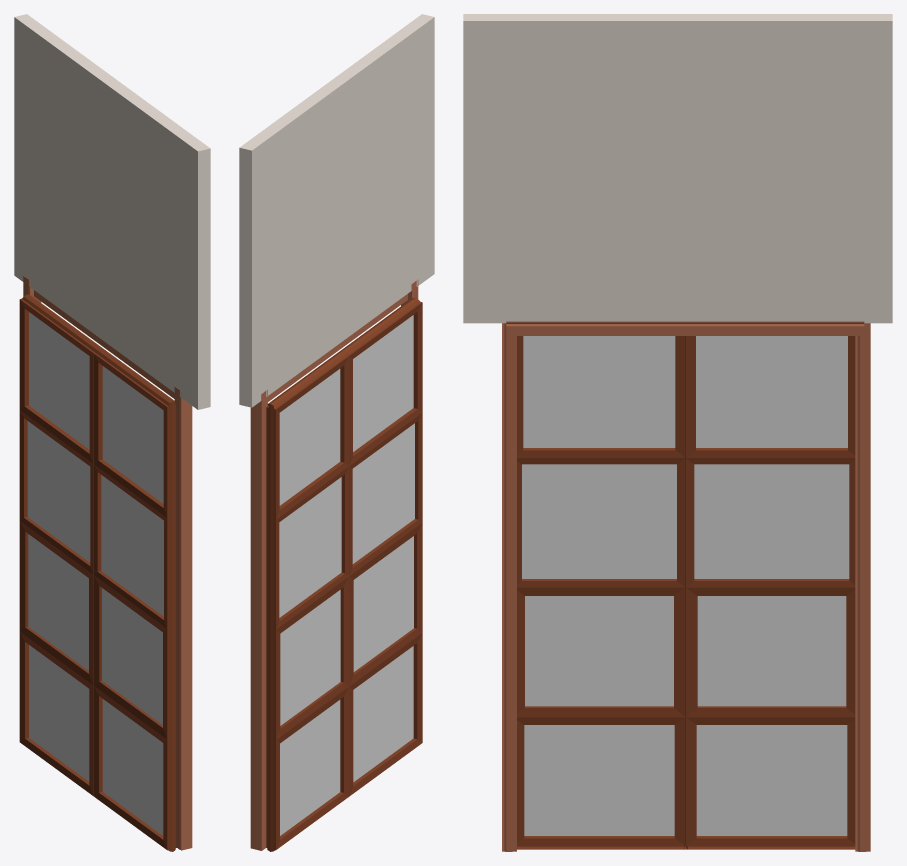
Rendered from Porta2.fbx.
The picture shows the model from 3 angles, left to right: view 1: azimuth 30°, elevation 25°; view 2: azimuth 150°, elevation 25°; view 3: azimuth 270°, elevation 25°; orthographic projection. The views are drawn at different scales.
Visible parts, largest first — view 1: Cube.033, Cube.041, Cube.056, Cube.055; view 2: Cube.033, Cube.041, Cube.057, Cube.055; view 3: Cube.033, Cube.041, Cube.057, Cube.056, Cube.055.
Part boxes in pixels (x1=…): Cube.033: x1=19, y1=294, x2=176, y2=851; Cube.041: x1=14, y1=14, x2=210, y2=409; Cube.056: x1=174, y1=386, x2=192, y2=850; Cube.055: x1=34, y1=290, x2=174, y2=398; Cube.033: x1=266, y1=297, x2=422, y2=851; Cube.041: x1=239, y1=14, x2=434, y2=407; Cube.057: x1=250, y1=389, x2=267, y2=850; Cube.055: x1=268, y1=294, x2=407, y2=401; Cube.033: x1=517, y1=336, x2=855, y2=849; Cube.041: x1=463, y1=14, x2=892, y2=323; Cube.057: x1=855, y1=323, x2=870, y2=851; Cube.056: x1=502, y1=323, x2=516, y2=851; Cube.055: x1=506, y1=321, x2=864, y2=335.
Bounding box in the file's own units: 18.71 × 530 × 246.
